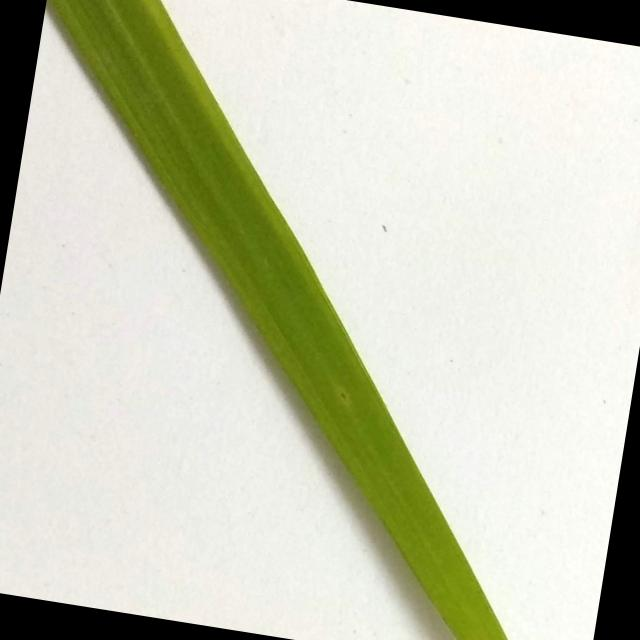Rice_Healthy: (47, 0, 507, 640)
